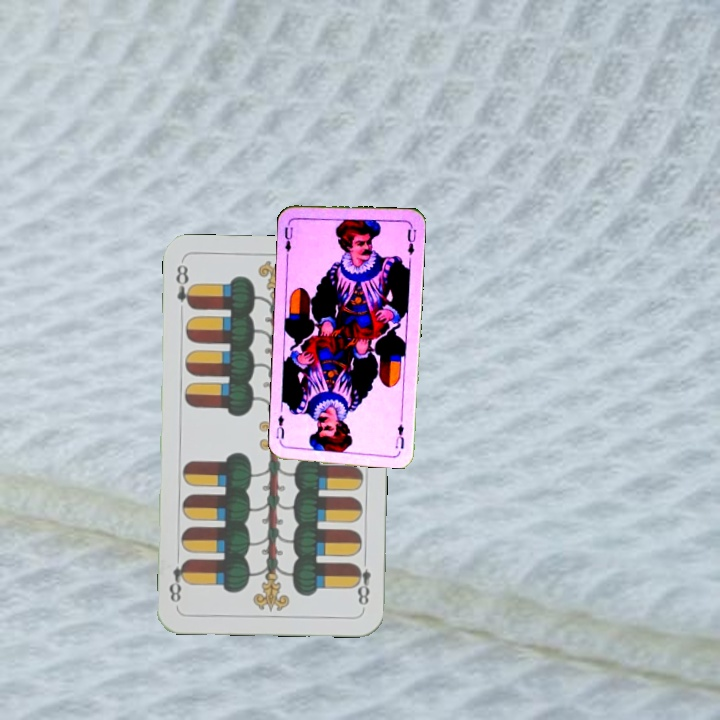E8: (350, 552, 373, 608), (171, 260, 196, 311)
EU: (281, 218, 300, 258), (392, 420, 407, 451)
